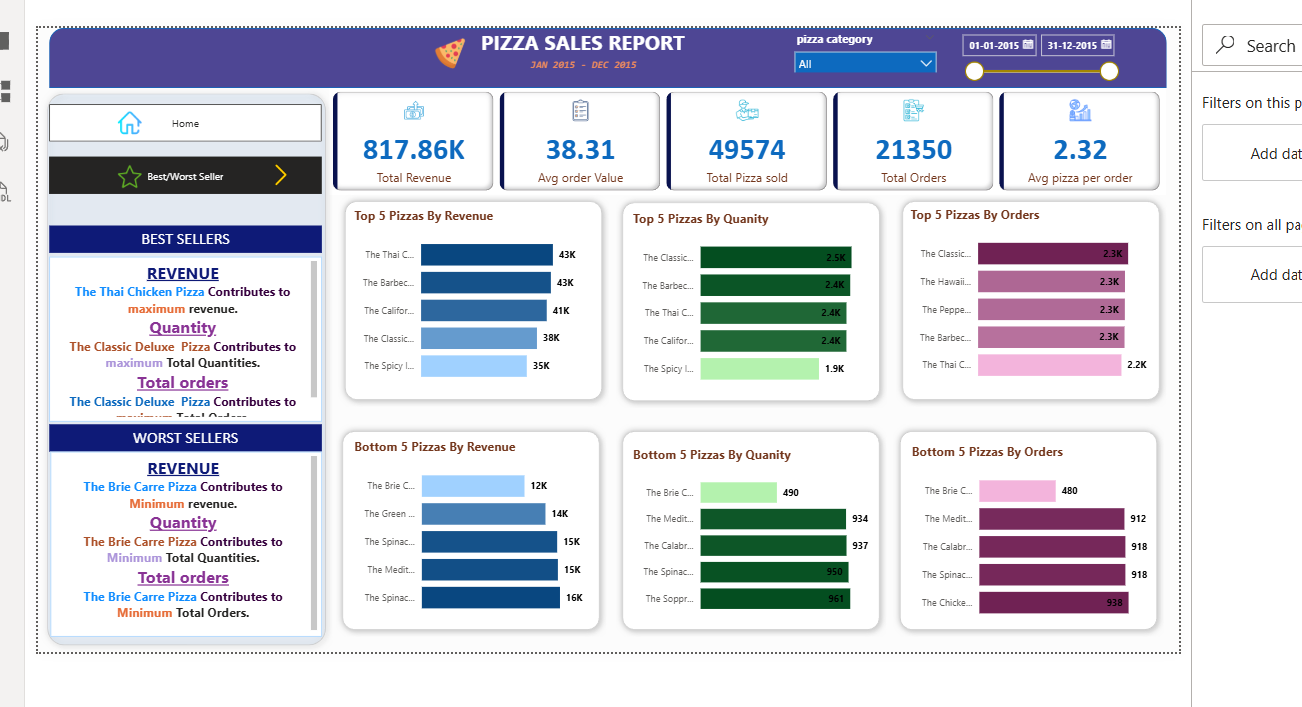

What the dashboard file says about the page in this screenshot:
{"tool":"powerbi","page":{"name":"Best/Worst Seller","canvas":[1500,820],"ordinal":1},"visuals":[{"type":"cardVisual","fields":{"Data":["pizza_sales_project pizza_sales.Total Revenue","pizza_sales_project pizza_sales.Avg order Value","pizza_sales_project pizza_sales.Total Pizza sold","pizza_sales_project pizza_sales.Total Orders","pizza_sales_project pizza_sales.Avg pizza per order"]},"box":[383.5,78.5,1100,140.5],"z":0},{"type":"shape","box":[14.8,0,1469.1,78.9],"z":1000},{"type":"textbox","box":[543.4,0,345,34.9],"z":2000},{"type":"image","box":[508.5,8.4,68.4,50.3],"z":3000},{"type":"textbox","box":[624.4,33.5,192.8,32.1],"z":4000},{"type":"shape","box":[2.8,76.8,384.1,743.2],"z":5000},{"type":"textbox","box":[14.8,259.6,358.2,36.2],"z":6000},{"type":"textbox","box":[14.8,300.7,358.2,216.9],"z":7000},{"type":"textbox","box":[14.8,520.9,358.2,36.2],"z":8000},{"type":"textbox","box":[16.4,557.1,356.6,243.2],"z":9000},{"type":"slicer","fields":{"Values":["pizza_sales_project pizza_sales.pizza_category"]},"box":[984.8,0,206.7,58.7],"z":10000},{"type":"slicer","fields":{"Values":["pizza_sales_project pizza_sales.order_date"]},"box":[1202.9,0,226.8,78.9],"z":11000},{"type":"shape","box":[1127.3,219.3,356.2,279.4],"z":12000},{"type":"shape","box":[759.2,220.2,356.6,279.4],"z":13000},{"type":"shape","box":[393.9,219.3,356.2,279.4],"z":14000},{"type":"shape","box":[1124.5,521,356.2,279.4],"z":15000},{"type":"shape","box":[758.5,521,356.2,279.4],"z":16000},{"type":"shape","box":[391.1,521,356.2,279.4],"z":17000},{"type":"barChart","title":"Top 5 Pizzas By Revenue","fields":{"Category":["pizza_sales_project pizza_sales.pizza_name"],"Y":["pizza_sales_project pizza_sales.Total Revenue"]},"box":[410.7,234.7,321.3,244.5],"z":18000},{"type":"barChart","title":"Bottom 5 Pizzas By Revenue","fields":{"Category":["pizza_sales_project pizza_sales.pizza_name"],"Y":["pizza_sales_project pizza_sales.Total Revenue"]},"box":[410.8,539,322.1,244.9],"z":19000},{"type":"barChart","title":"Top 5 Pizzas By Quanity","fields":{"Category":["pizza_sales_project pizza_sales.pizza_name"],"Y":["Sum(pizza_sales_project pizza_sales.quantity)"]},"box":[777.3,238.3,322.1,244.9],"z":20000},{"type":"barChart","title":"Bottom 5 Pizzas By Quanity","fields":{"Category":["pizza_sales_project pizza_sales.pizza_name"],"Y":["Sum(pizza_sales_project pizza_sales.quantity)"]},"box":[777.3,548.9,322.1,235],"z":21000},{"type":"barChart","title":"Top 5 Pizzas By Orders","fields":{"Category":["pizza_sales_project pizza_sales.pizza_name"],"Y":["pizza_sales_project pizza_sales.Total Orders"]},"box":[1142.1,233.3,322.1,244.9],"z":22000},{"type":"barChart","title":"Bottom 5 Pizzas By Orders","fields":{"Category":["pizza_sales_project pizza_sales.pizza_name"],"Y":["pizza_sales_project pizza_sales.Total Orders"]},"box":[1143.7,545.6,322.1,244.9],"z":23000},{"type":"pageNavigator","box":[14.8,100.2,358.2,49.3],"z":24000},{"type":"pageNavigator","box":[14.8,169.3,358.2,49.3],"z":25000},{"type":"image","box":[266.2,174.2,106.8,37.8],"z":26000},{"type":"image","box":[100.2,100.2,41.1,49.3],"z":27000},{"type":"image","box":[100.2,170.9,41.1,49.3],"z":28000}]}

Visuals, with their boxes on the page's 1500x820 design canvas (x1, y1, x2, y2). These are canvas units, not pixel positions in the 1302x707 screenshot, which may show the page scaled, cropped or inside an application window:
cardVisual - pizza_sales_project pizza_sales.Total Revenue x pizza_sales_project pizza_sales.Avg order Value: x1=384, y1=78, x2=1484, y2=219
shape: x1=15, y1=0, x2=1484, y2=79
textbox: x1=543, y1=0, x2=888, y2=35
image: x1=508, y1=8, x2=577, y2=59
textbox: x1=624, y1=34, x2=817, y2=66
shape: x1=3, y1=77, x2=387, y2=820
textbox: x1=15, y1=260, x2=373, y2=296
textbox: x1=15, y1=301, x2=373, y2=518
textbox: x1=15, y1=521, x2=373, y2=557
textbox: x1=16, y1=557, x2=373, y2=800
slicer - pizza_sales_project pizza_sales.pizza_category: x1=985, y1=0, x2=1192, y2=59
slicer - pizza_sales_project pizza_sales.order_date: x1=1203, y1=0, x2=1430, y2=79
shape: x1=1127, y1=219, x2=1484, y2=499
shape: x1=759, y1=220, x2=1116, y2=500
shape: x1=394, y1=219, x2=750, y2=499
shape: x1=1124, y1=521, x2=1481, y2=800
shape: x1=758, y1=521, x2=1115, y2=800
shape: x1=391, y1=521, x2=747, y2=800
"Top 5 Pizzas By Revenue" barChart: x1=411, y1=235, x2=732, y2=479
"Bottom 5 Pizzas By Revenue" barChart: x1=411, y1=539, x2=733, y2=784
"Top 5 Pizzas By Quanity" barChart: x1=777, y1=238, x2=1099, y2=483
"Bottom 5 Pizzas By Quanity" barChart: x1=777, y1=549, x2=1099, y2=784
"Top 5 Pizzas By Orders" barChart: x1=1142, y1=233, x2=1464, y2=478
"Bottom 5 Pizzas By Orders" barChart: x1=1144, y1=546, x2=1466, y2=790
pageNavigator: x1=15, y1=100, x2=373, y2=150
pageNavigator: x1=15, y1=169, x2=373, y2=219
image: x1=266, y1=174, x2=373, y2=212
image: x1=100, y1=100, x2=141, y2=150
image: x1=100, y1=171, x2=141, y2=220
